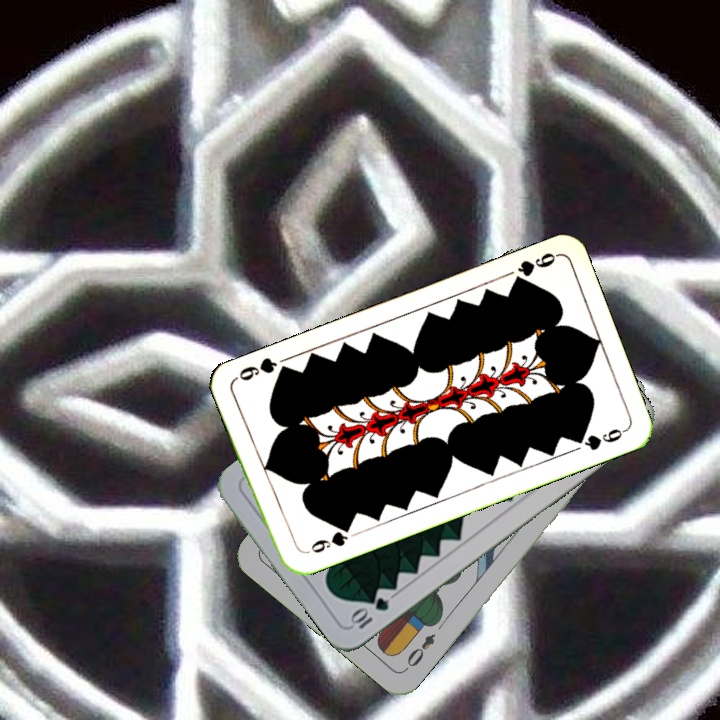EO: (401, 629, 438, 674)
G10: (346, 593, 392, 632)
G9: (508, 248, 560, 289), (307, 521, 354, 556)
